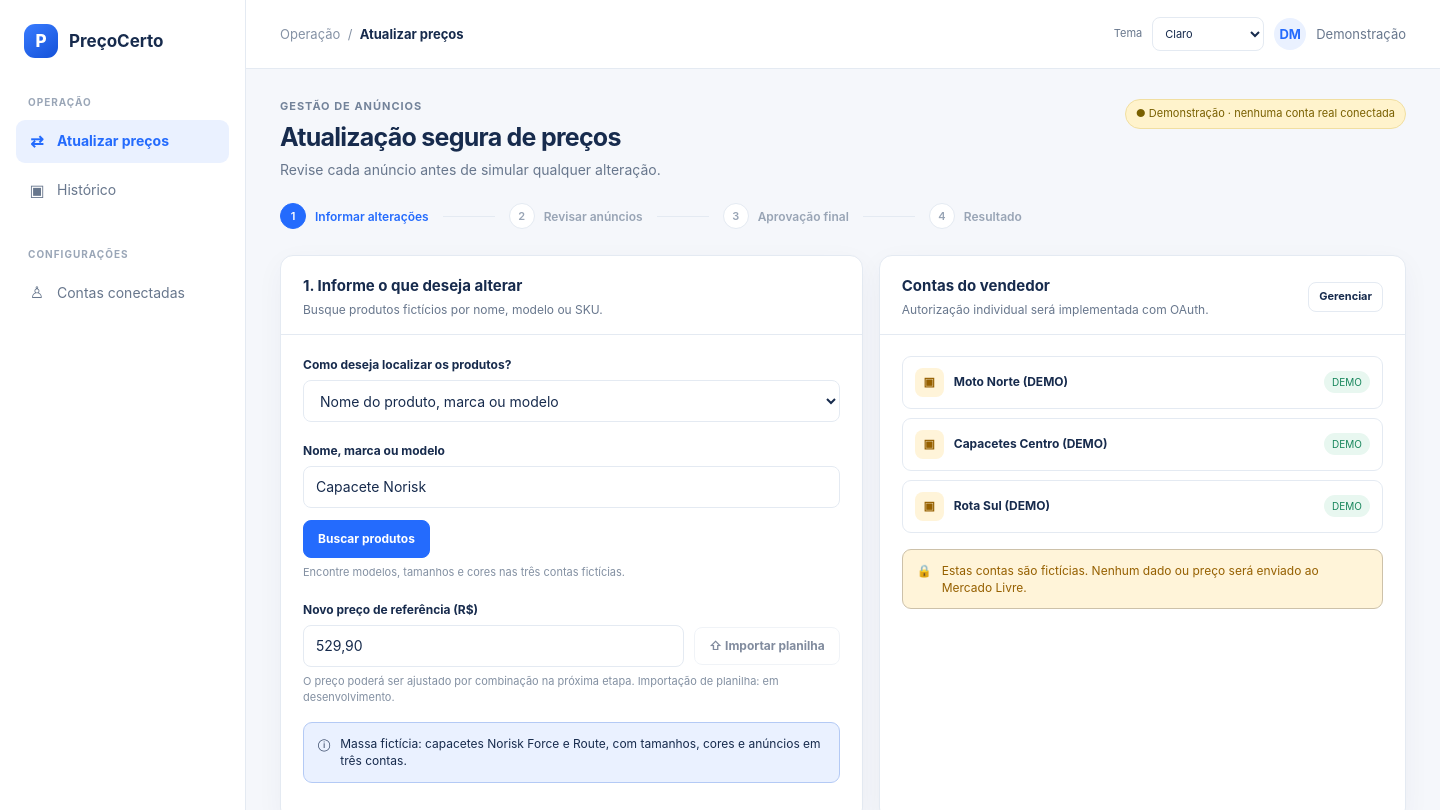
Test: aprovação, resultado, histórico e tema › abre contas fictícias pelo menu e por Gerenciar sem sugerir conexão real
Click the button "♙ Contas conectadas": (122, 293) [16,271,229,315]
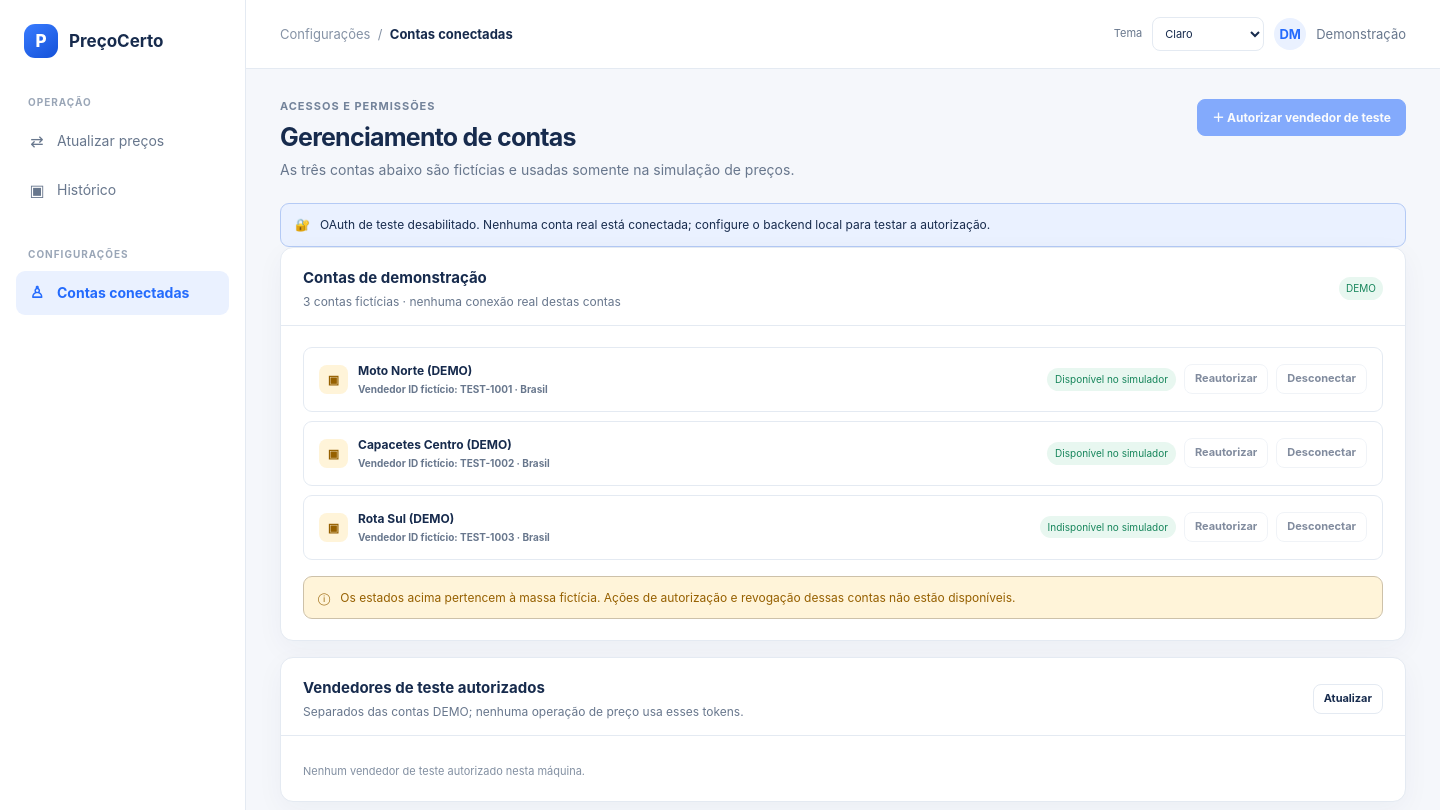
Expected: the text "Nenhuma conta real está conectada" is shown, [320,218,990,232]
Expected: the text "OAuth de teste desabilitado" is shown, [320,218,990,232]
Expected: the button "＋ Autorizar vendedor de teste" is disabled, [1197,99,1406,136]
Click the button "⇄ Atualizar preços": (122, 141) [16,120,229,163]
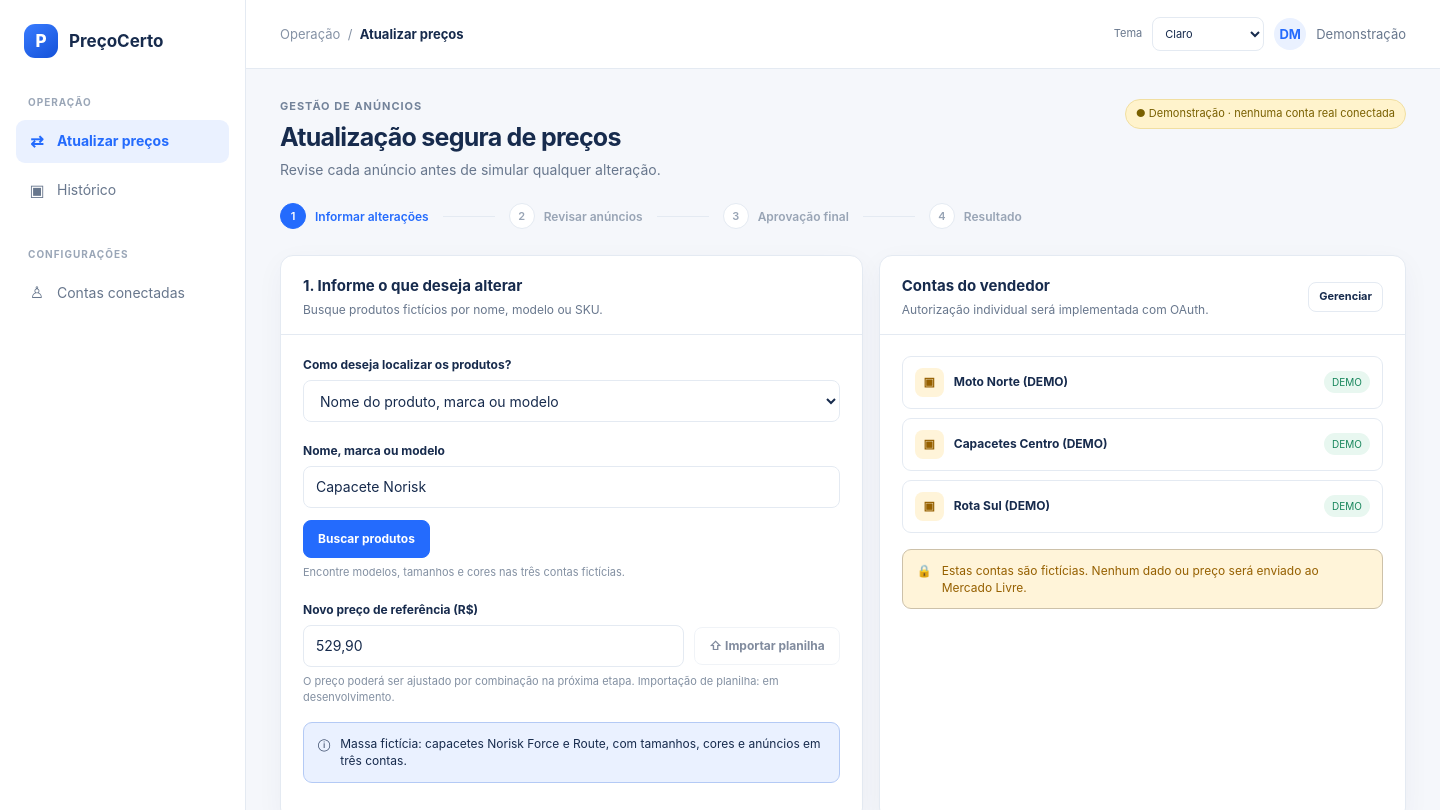
Click the button "Gerenciar": (1346, 297) [1308,282,1383,312]
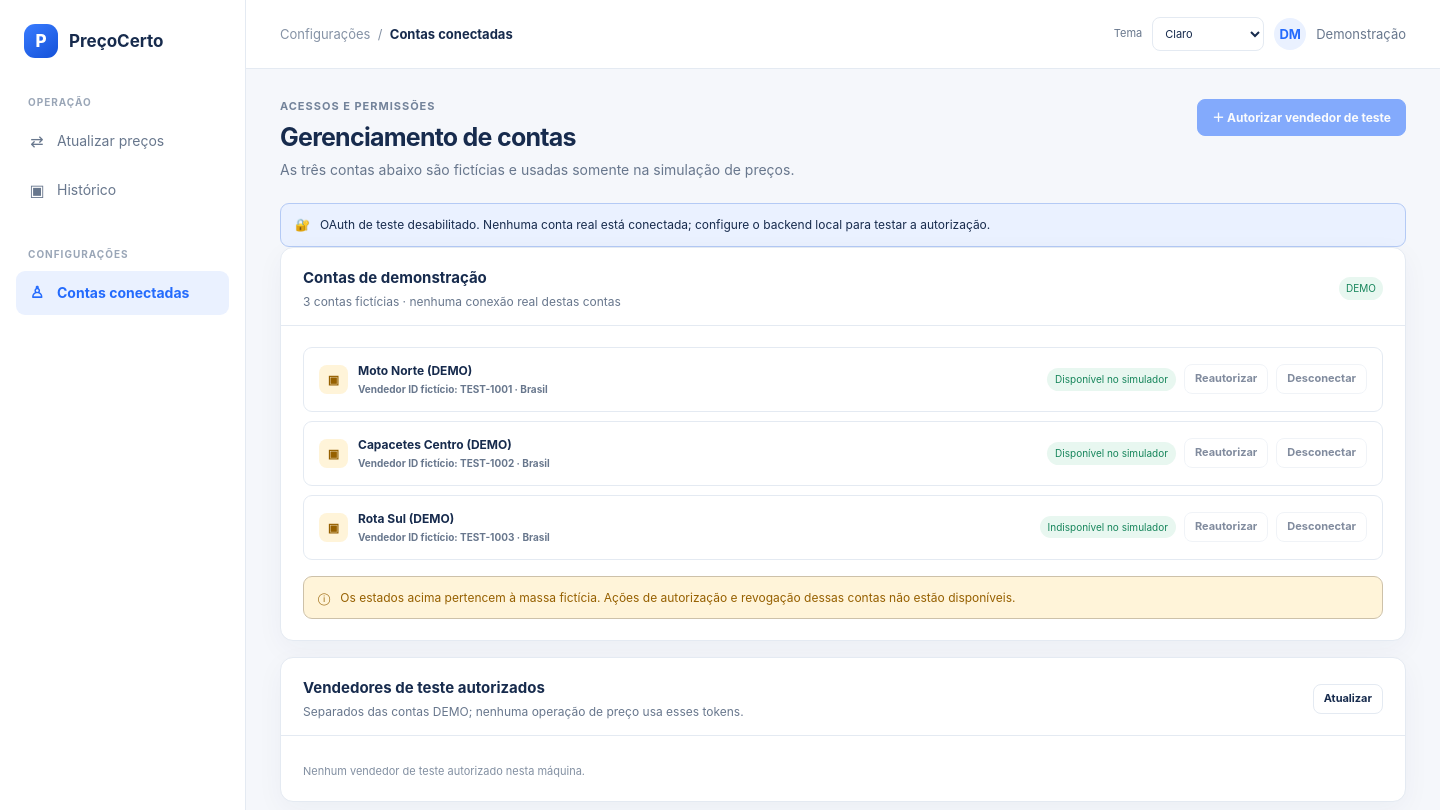
Expected: the text "Gerenciamento de contas" is shown, [280,122,576,152]
